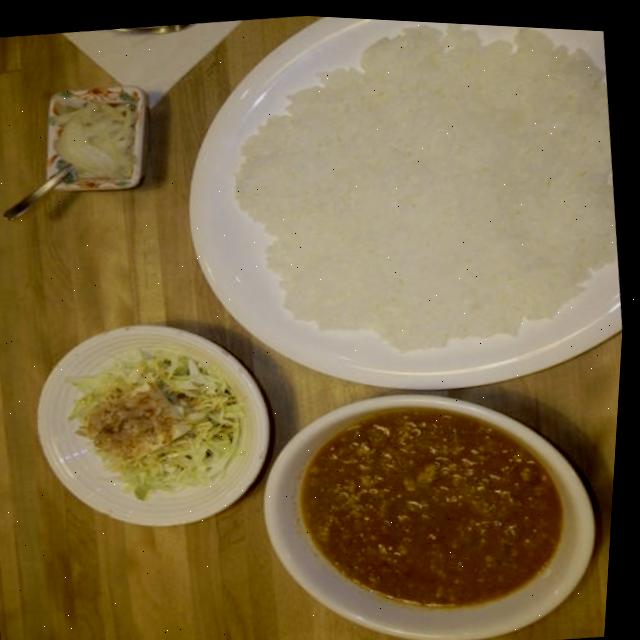米饭主食: (156, 7, 640, 421)
